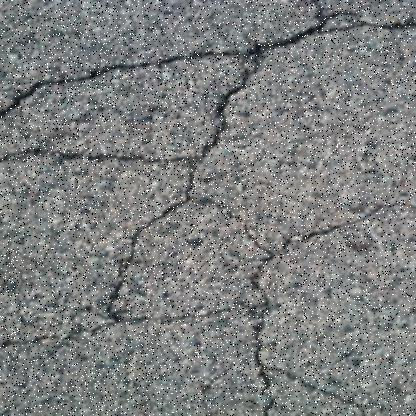Cracks: (0, 0, 416, 167), (0, 168, 285, 349), (238, 195, 416, 416)
